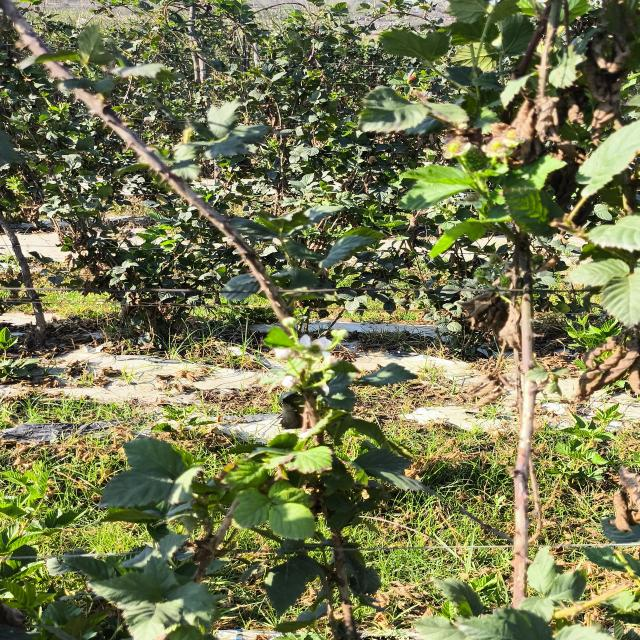boton: (281, 375, 300, 389), (274, 348, 292, 359), (280, 316, 296, 328)
